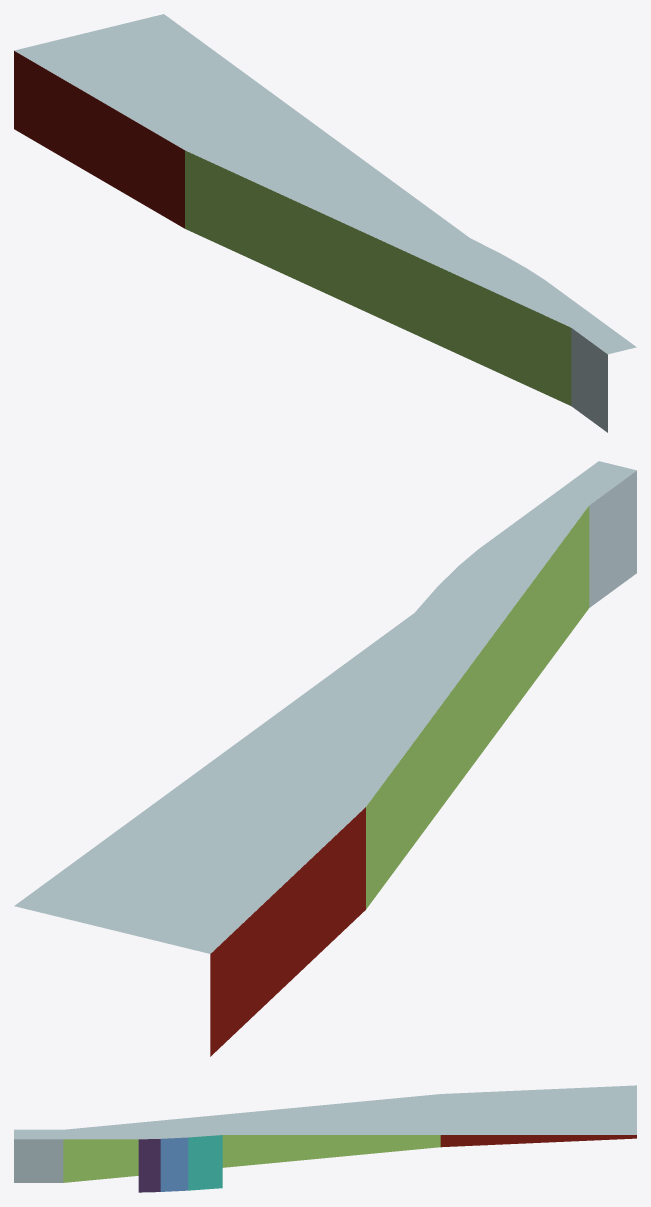
File: scramjet_n2_m4.glb
3 views of the same model, one above another, from view 1: azimuth 30°, elevation 25°; view 2: azimuth 150°, elevation 25°; view 3: azimuth 270°, elevation 25° (orthographic). The views are drawn at different scales.
Visible parts, largest first — view 1: mesh0; view 2: mesh0; view 3: mesh0.
Boxes of the visible parts, box(x1,y1,x2,y2) form: mesh0: box(14, 14, 636, 432); mesh0: box(14, 461, 636, 1056); mesh0: box(14, 1085, 636, 1192).
Bounding box in the file's own units: 1.09 × 0.5004 × 5.31.
